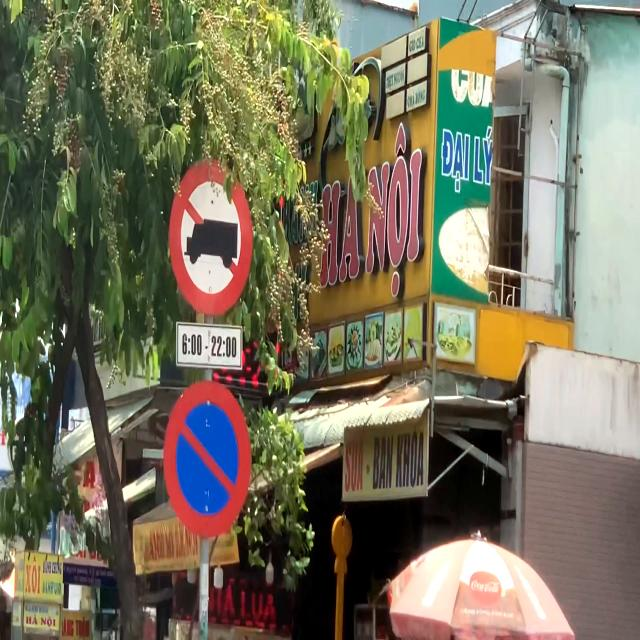P.106a: (171, 161, 258, 311)
P.131a: (160, 382, 252, 538)
